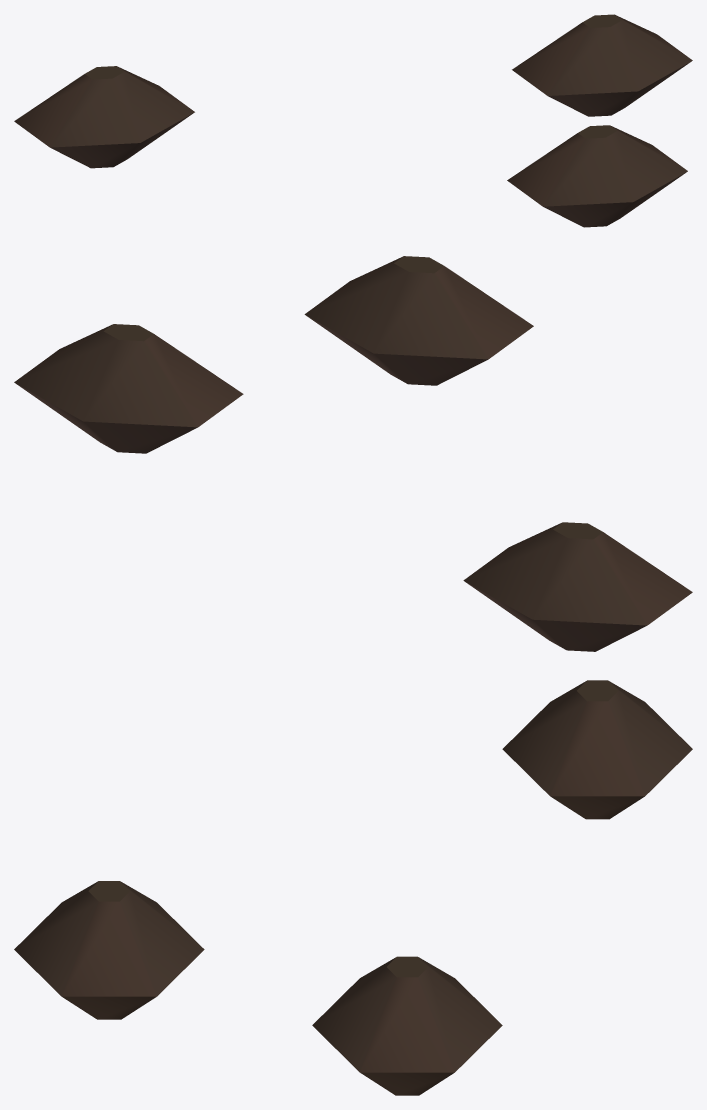
File: crop_sunflower_seeded.glb
3 renders of one model, top to bottom at view 1: azimuth 30°, elevation 25°; view 2: azimuth 150°, elevation 25°; view 3: azimuth 270°, elevation 25°, orthographic. The views are drawn at different scales.
Parts seen in each view (by area): view 1: crop_sunflower_seeded_seed_0; view 2: crop_sunflower_seeded_seed_0; view 3: crop_sunflower_seeded_seed_0.
Boxes of the visible parts, x1,y1,x2,y2 form: crop_sunflower_seeded_seed_0: (14,14,692,227); crop_sunflower_seeded_seed_0: (14,256,692,651); crop_sunflower_seeded_seed_0: (14,680,692,1095).
Bounding box in the file's own units: 0.1498 × 0.022 × 0.116.
